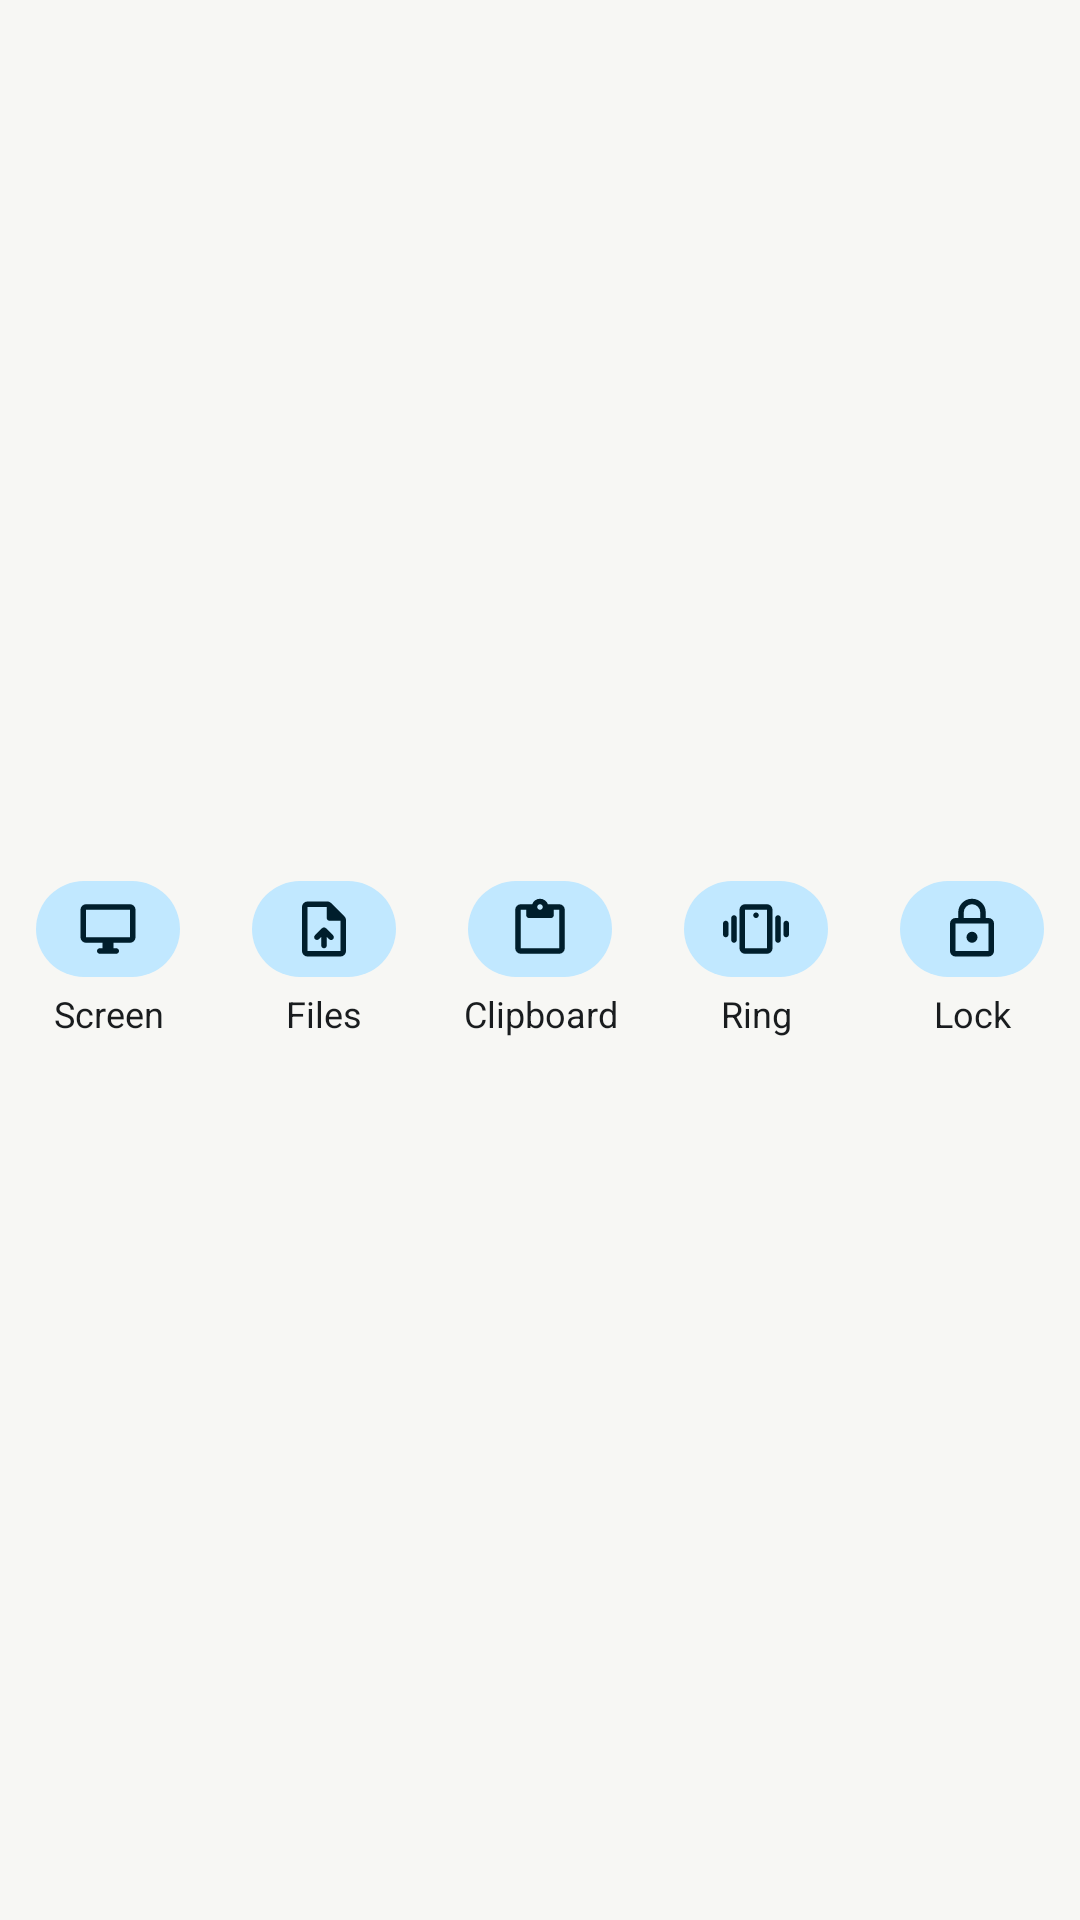

Icons on this 1080 x 1920 Android screen, each with its box as rect(x1, y1, x2, y2):
sym content paste: rect(468, 881, 612, 977)
sym desktop windows: rect(36, 881, 180, 977)
sym upload file: rect(252, 881, 396, 977)
sym vibration: rect(684, 881, 828, 977)
